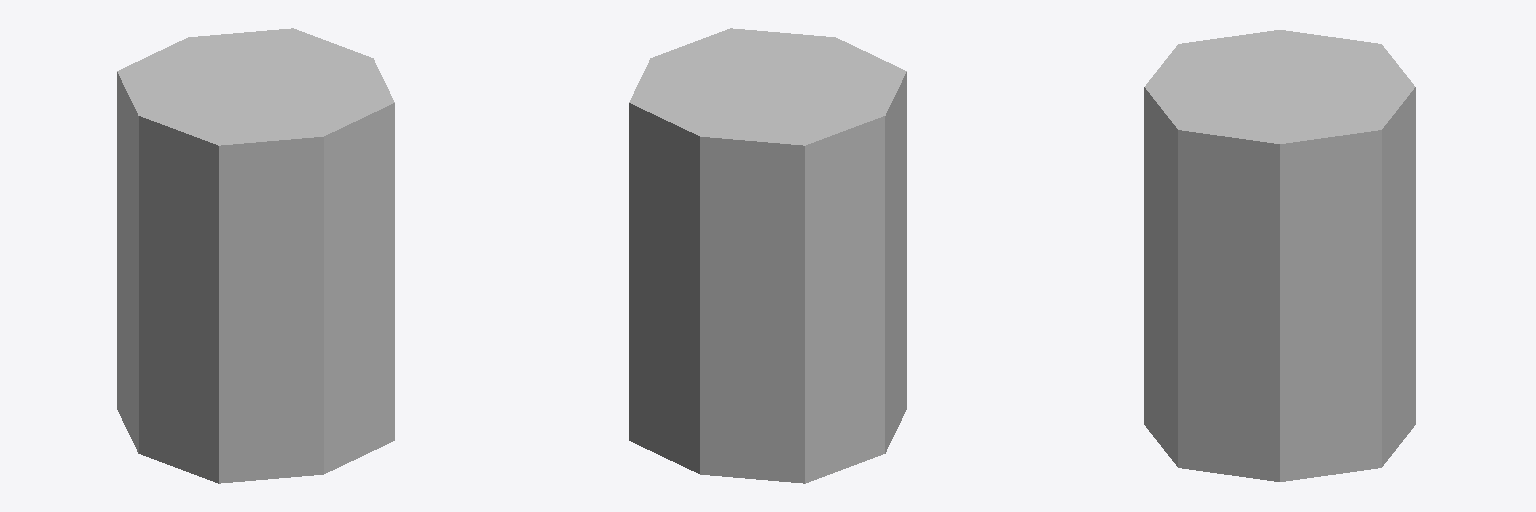
Rendered from barrel_2.obj.
3 renders of one model, left to right at view 1: azimuth 30°, elevation 25°; view 2: azimuth 150°, elevation 25°; view 3: azimuth 270°, elevation 25°, orthographic.
Bounding box in the file's own units: 0.8 × 1.1 × 0.8.